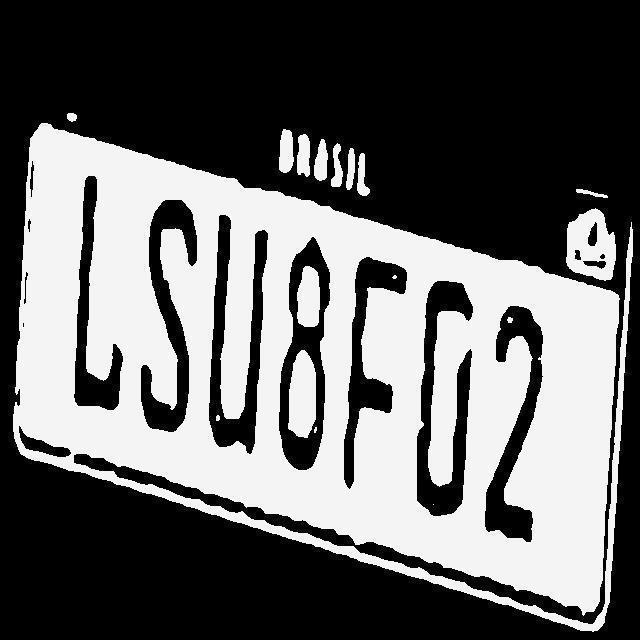0: (413, 277, 476, 518)
2: (478, 304, 552, 548)
8: (280, 229, 333, 473)
f: (338, 243, 410, 490)
l: (70, 171, 134, 418)
s: (136, 199, 198, 433)
u: (206, 202, 272, 454)
